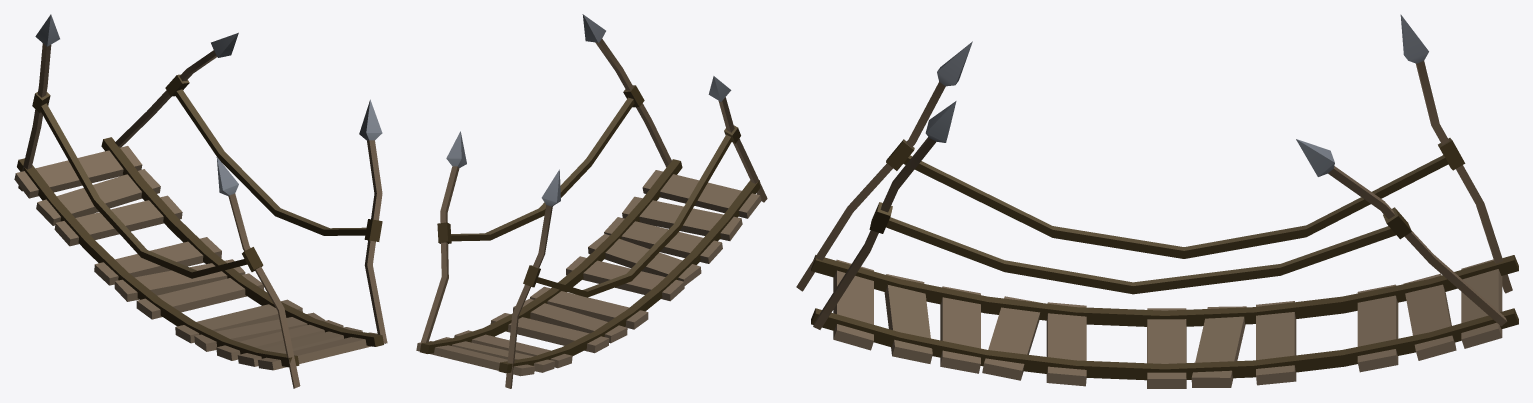
File: SD_Env_Goblin_Bridge_01.fbx
3 renders of one model, left to right at view 1: azimuth 30°, elevation 25°; view 2: azimuth 150°, elevation 25°; view 3: azimuth 270°, elevation 25°, orthographic. The views are drawn at different scales.
Visible parts, largest first — view 1: SD_Env_Goblin_Bridge_01; view 2: SD_Env_Goblin_Bridge_01; view 3: SD_Env_Goblin_Bridge_01.
Boxes of the visible parts, <box> form: SD_Env_Goblin_Bridge_01: <box>14,14,387,388</box>; SD_Env_Goblin_Bridge_01: <box>416,14,767,388</box>; SD_Env_Goblin_Bridge_01: <box>796,14,1518,388</box>.
Size of the model in its own units: 3.99 by 5.9 by 12.51.
